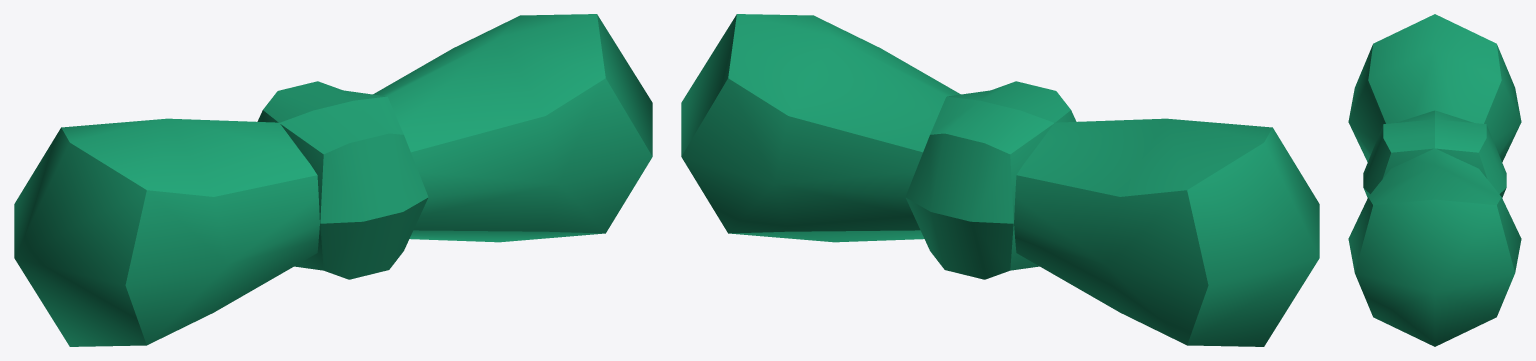
The model's file is Oden_Kobumusubi.gltf.
3 views of the same model, side by side, from view 1: azimuth 30°, elevation 25°; view 2: azimuth 150°, elevation 25°; view 3: azimuth 270°, elevation 25° (orthographic). The views are drawn at different scales.
Visible parts, largest first — view 1: Oden_Shirataki; view 2: Oden_Shirataki; view 3: Oden_Shirataki.
Part boxes in pixels (left/top/right/bottom): Oden_Shirataki: left=14, top=14, right=652, bottom=346; Oden_Shirataki: left=681, top=14, right=1319, bottom=346; Oden_Shirataki: left=1348, top=14, right=1521, bottom=346.
Bounding box in the file's own units: 3.28 × 1 × 1.07.
